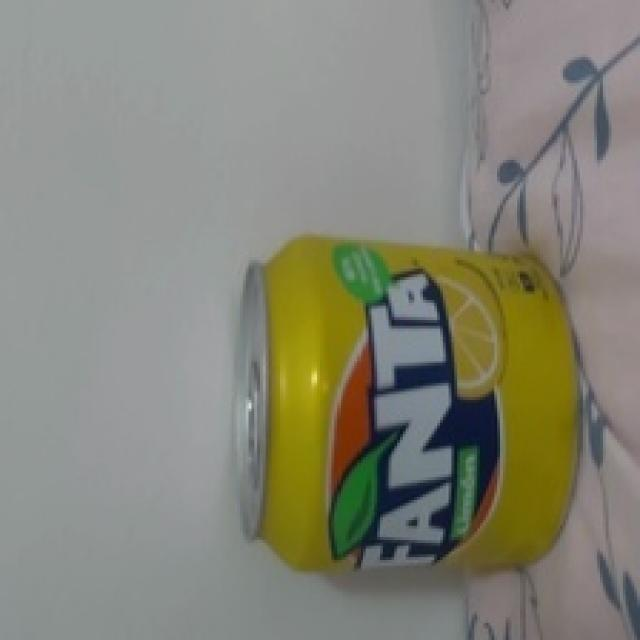recyclable: (230, 236, 582, 574)
